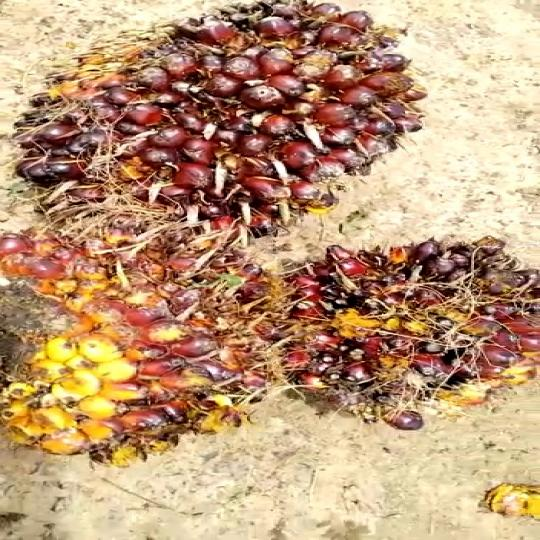masak: (16, 0, 419, 241), (0, 196, 307, 459), (232, 234, 540, 439)
